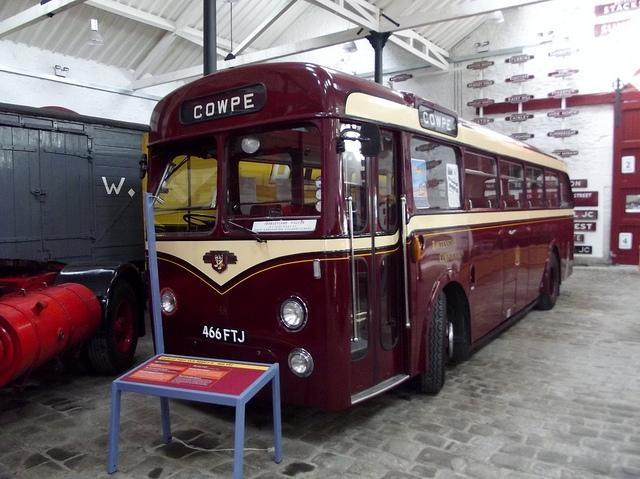bus: (140, 65, 578, 431)
truck: (2, 106, 151, 364)
